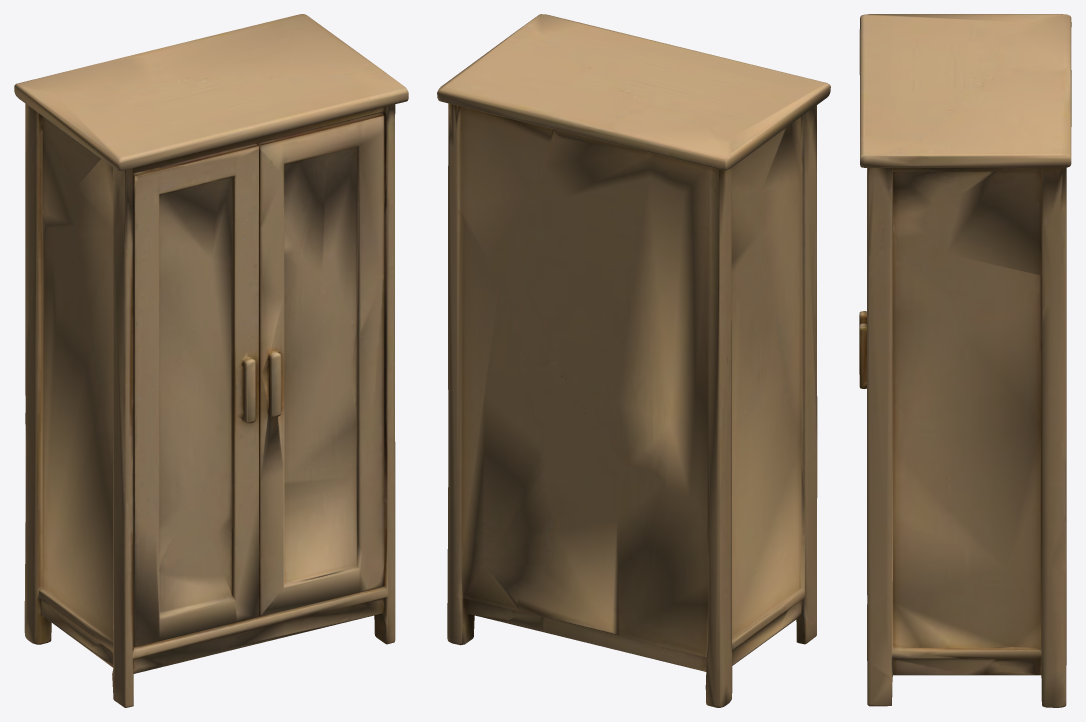
Rendered from wardrobe-lite.glb.
3 views of the same model, side by side, from view 1: azimuth 30°, elevation 25°; view 2: azimuth 150°, elevation 25°; view 3: azimuth 270°, elevation 25° (orthographic).
Visible parts, largest first — view 1: node_0; view 2: node_0; view 3: node_0.
Part boxes in pixels (x1,y1,x2,y2): node_0: (14,14,408,707); node_0: (437,14,830,707); node_0: (859,14,1071,707).
Size of the model in its own units: 0.5536 by 1.01 by 0.35.
Materials: 1 (1 with a texture image).
